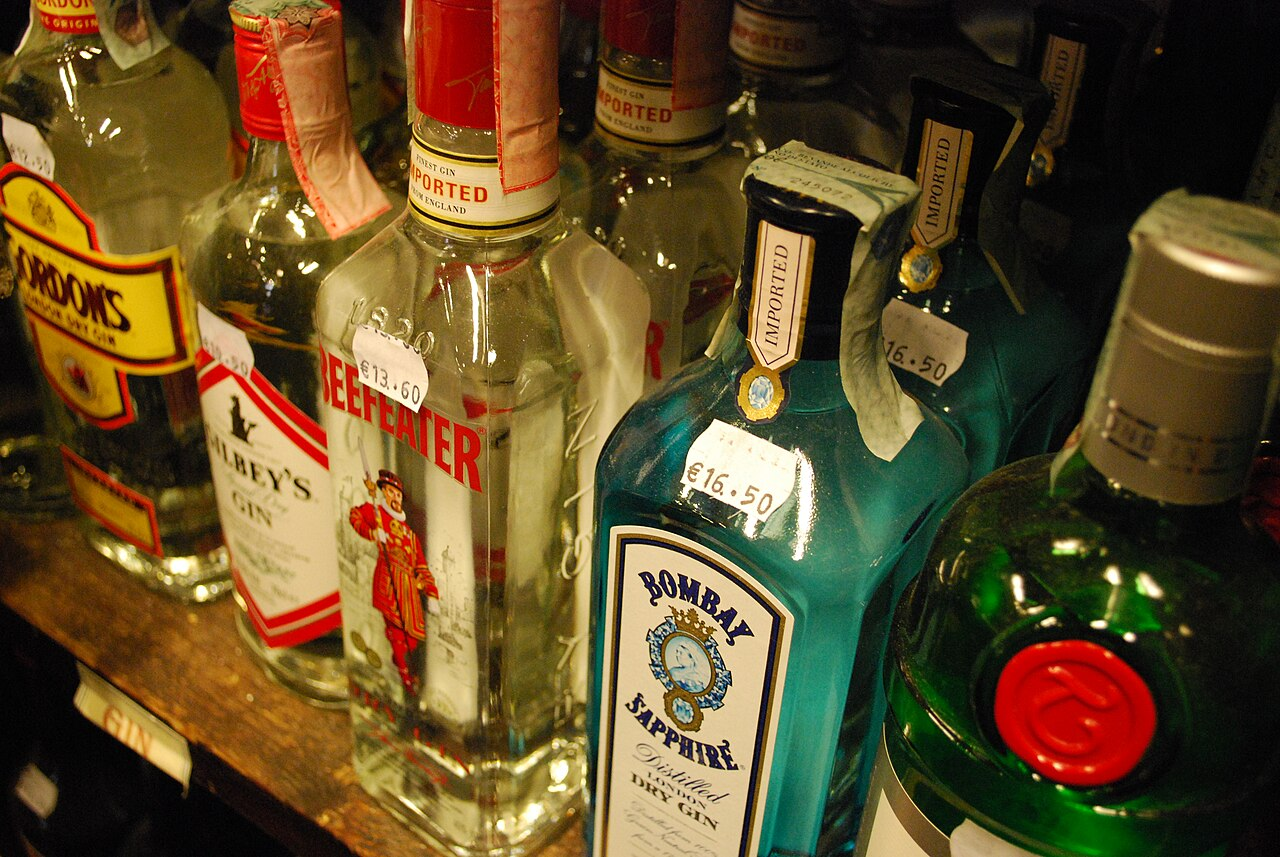beefeater: (312, 1, 649, 849)
bombay: (585, 138, 970, 848)
gilbeysgin: (188, 4, 396, 702)
gordons: (1, 2, 237, 608)
tanquerayten: (857, 186, 1279, 848)
